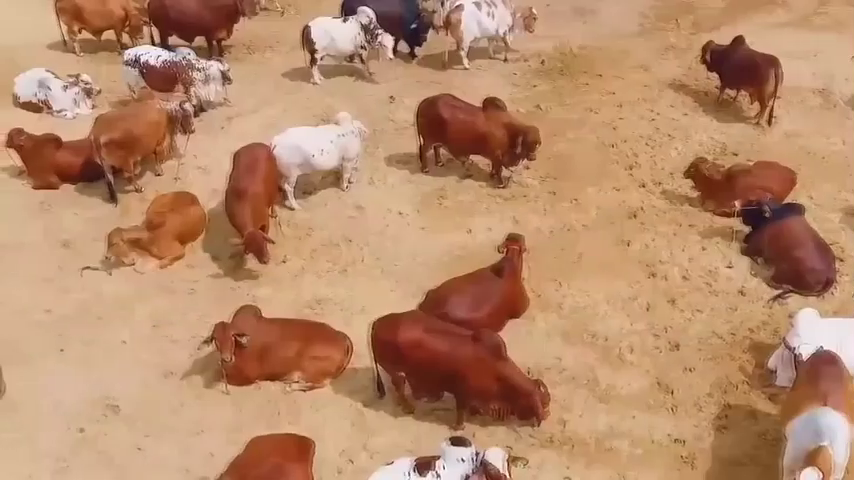bo: (355, 307, 557, 435), (407, 218, 552, 337), (208, 300, 360, 397), (404, 88, 540, 185), (732, 194, 839, 311), (86, 93, 195, 194), (265, 110, 366, 217), (220, 130, 293, 277), (779, 339, 854, 480), (750, 290, 854, 390), (687, 28, 787, 131), (119, 40, 249, 119), (106, 183, 208, 276), (357, 428, 526, 480), (298, 7, 397, 86), (138, 1, 270, 59), (438, 3, 546, 73), (5, 118, 98, 199), (684, 150, 799, 214), (202, 425, 324, 480), (338, 2, 443, 63), (45, 1, 154, 58), (7, 61, 104, 122)
